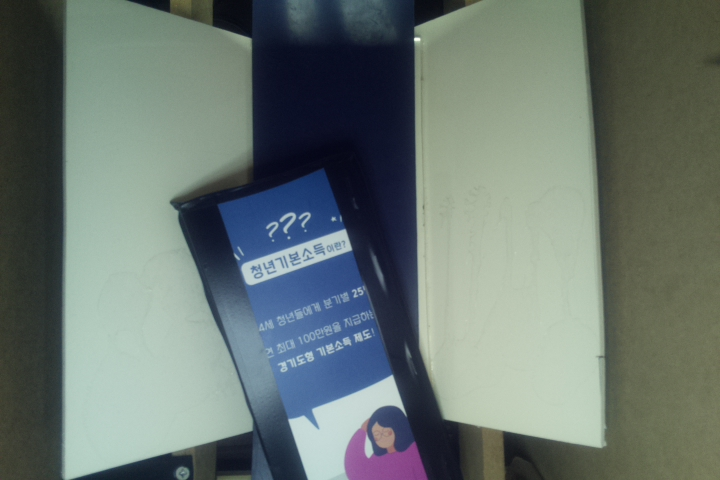book: (174, 157, 452, 480)
